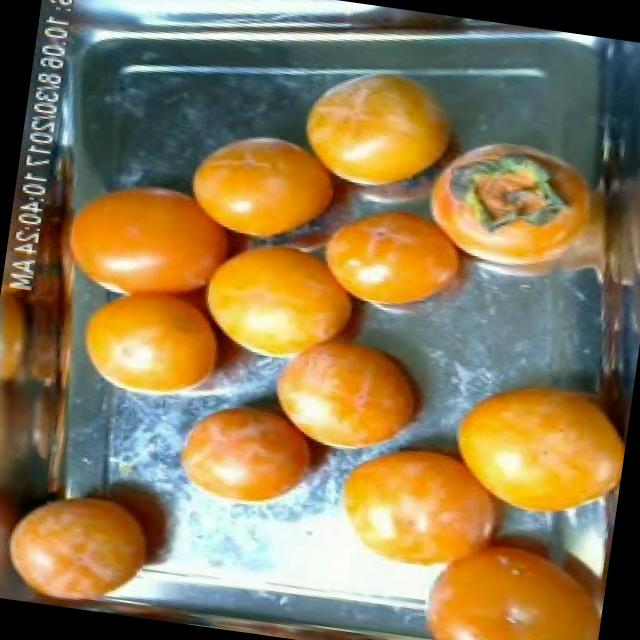Fruit: (426, 350, 635, 537), (248, 306, 458, 464), (284, 51, 484, 205), (0, 465, 200, 619), (158, 378, 356, 530), (315, 433, 496, 591), (64, 272, 256, 416), (172, 112, 358, 255), (51, 156, 210, 314)
